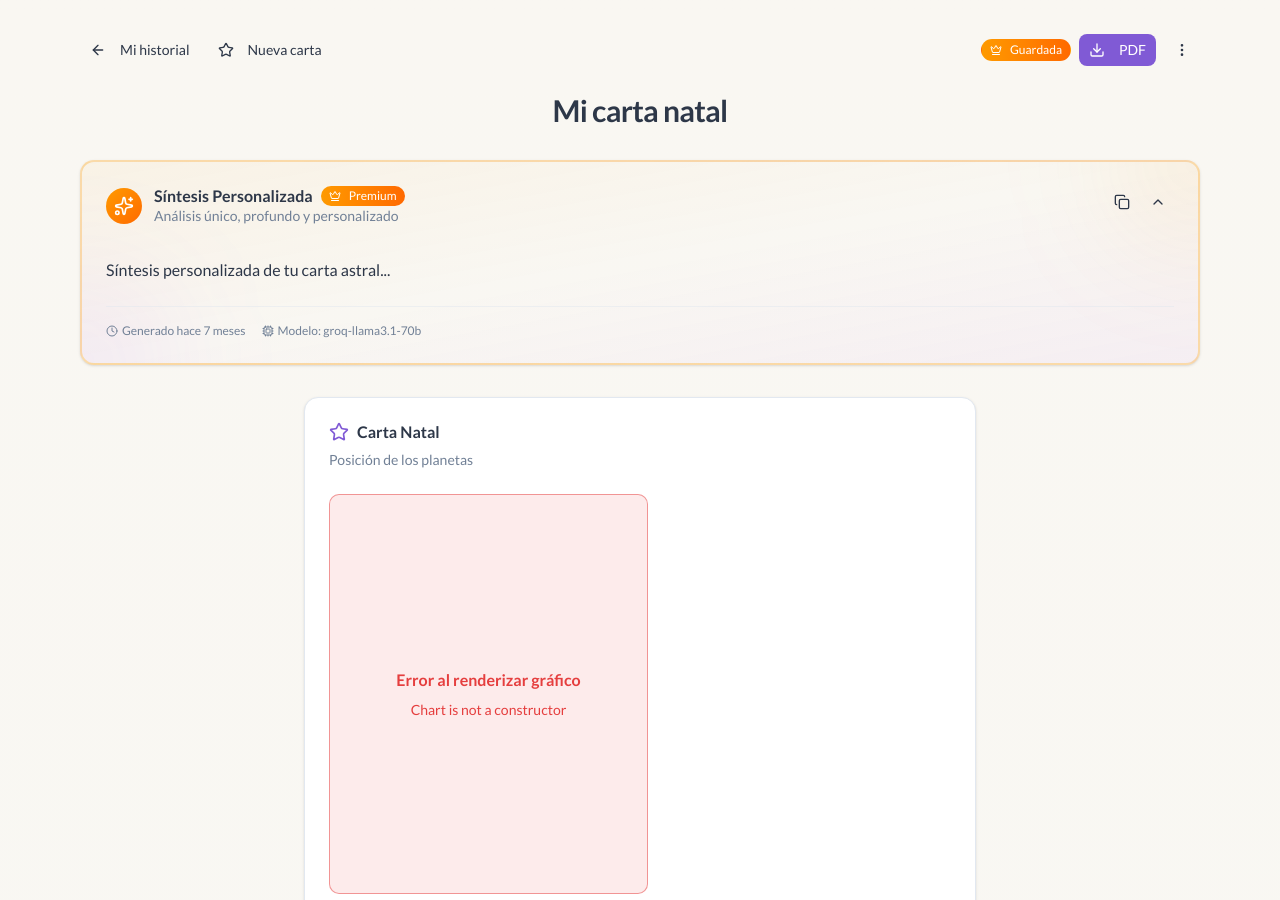
Scenario: SavedChartPage › Rename functionality › should enter edit mode when rename is clicked
What coordinates should you click on to do the following:
click the button with test id "menu-button"
I would click on:
 (1182, 50)
Its box is [1164,32,1200,68].
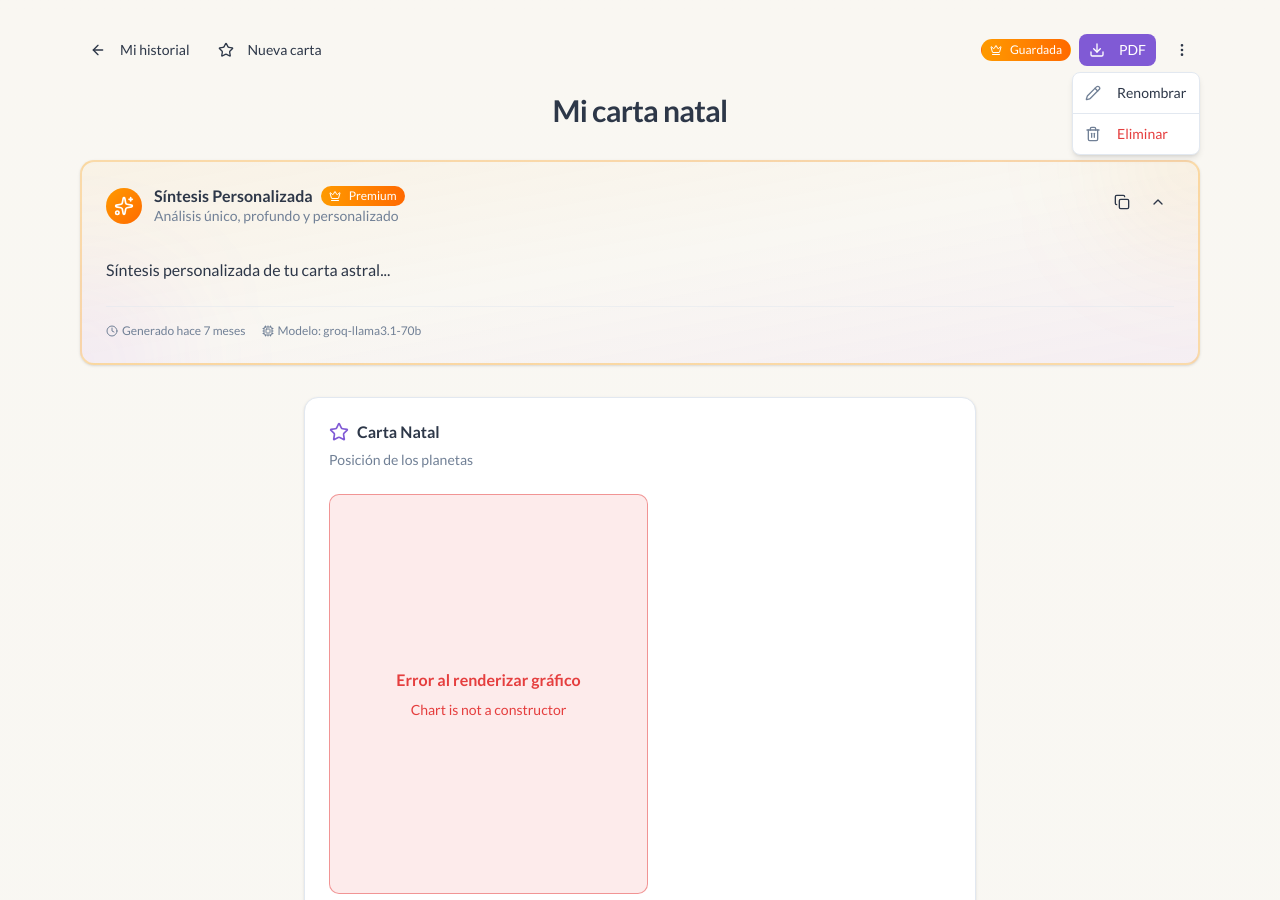
What coordinates should you click on to do the following:
click the menu item "Renombrar"
I would click on:
 (1136, 92)
Its box is [1085,84,1186,101].
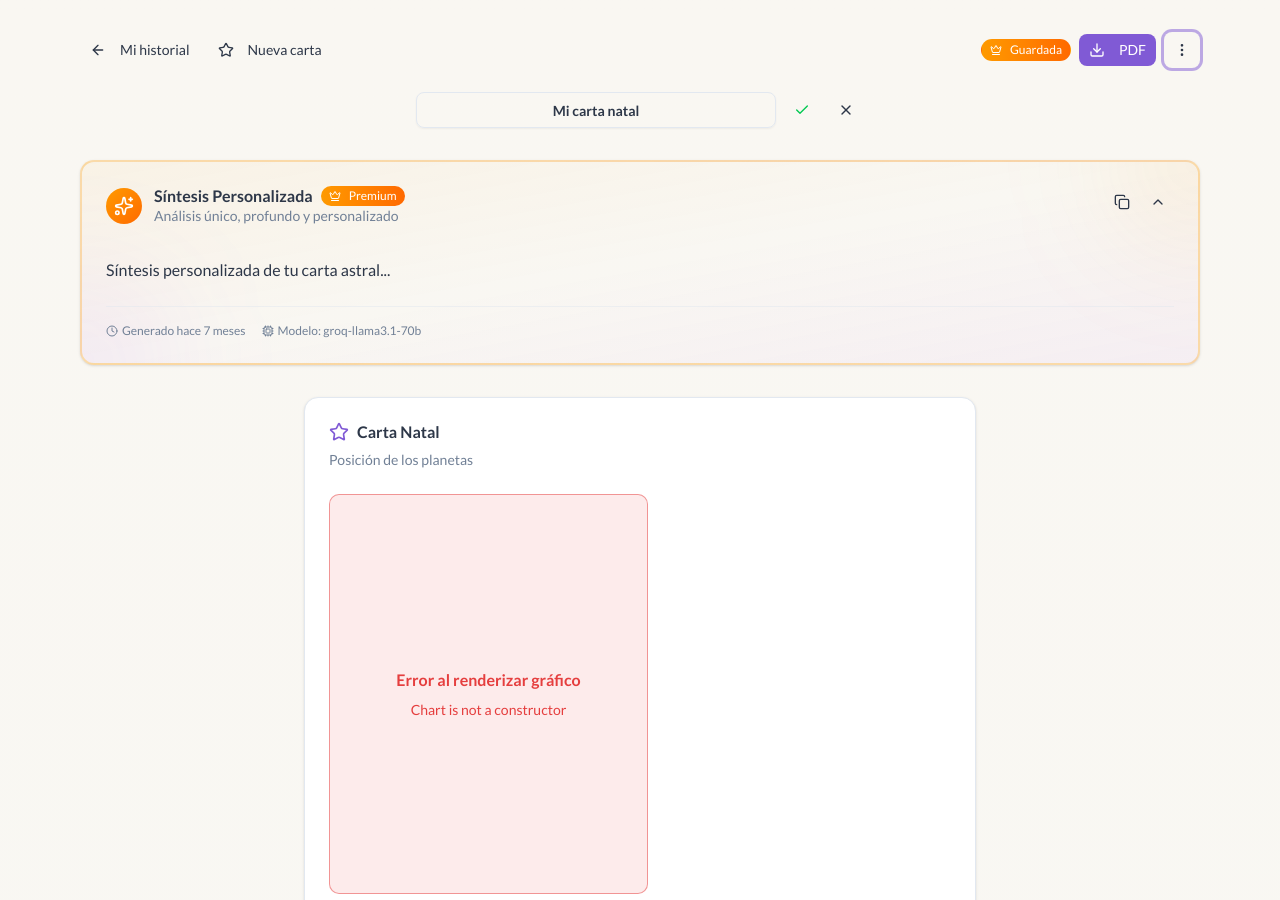
Now the field showing "Mi carta natal" is shown, box [416,92,776,128]
